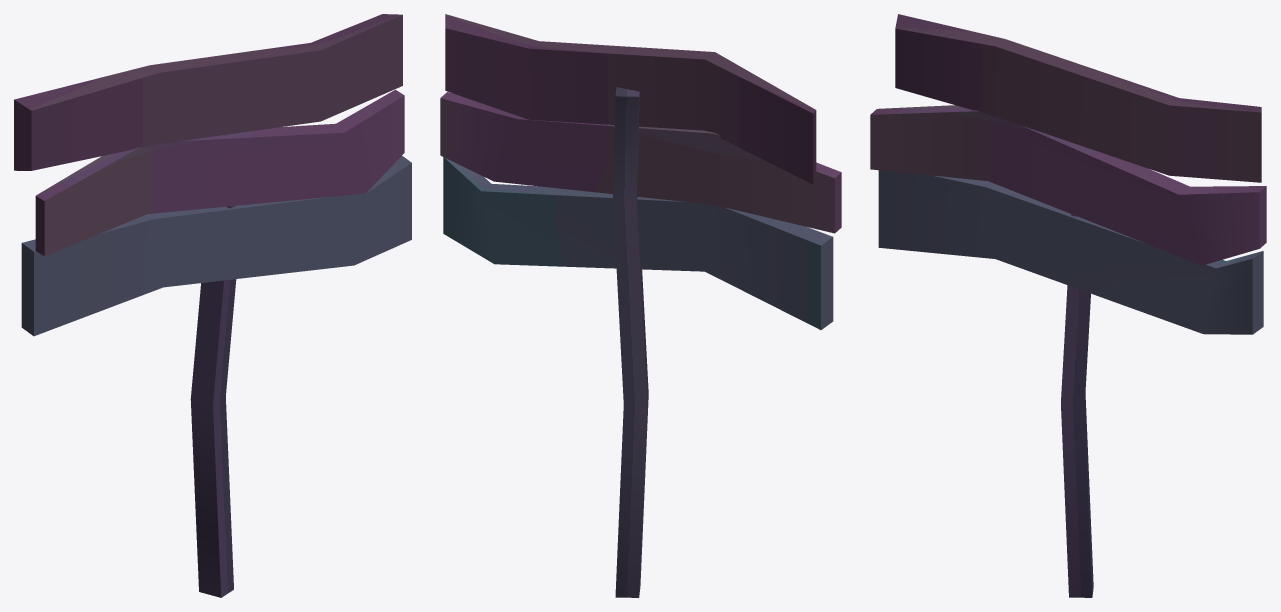
The model's file is Sign2.fbx.
The picture shows the model from 3 angles, left to right: view 1: azimuth 30°, elevation 25°; view 2: azimuth 150°, elevation 25°; view 3: azimuth 330°, elevation 25°; orthographic projection.
Parts seen in each view (by area): view 1: Sign; view 2: Sign; view 3: Sign.
Boxes of the visible parts, x1=… form: Sign: x1=14, y1=14, x2=411, y2=597; Sign: x1=440, y1=14, x2=841, y2=597; Sign: x1=870, y1=14, x2=1266, y2=597.
Bounding box in the file's own units: 2.53 × 3.5 × 0.3426.
